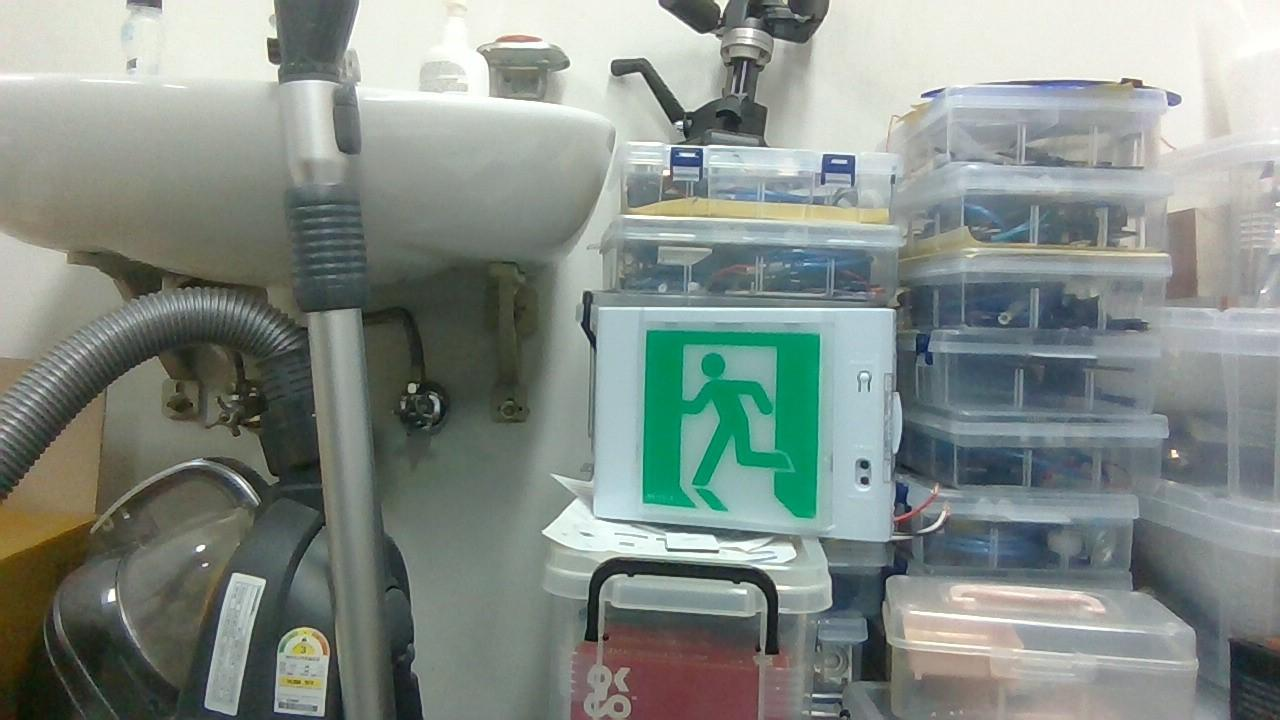emergency_exit: (589, 300, 899, 542)
